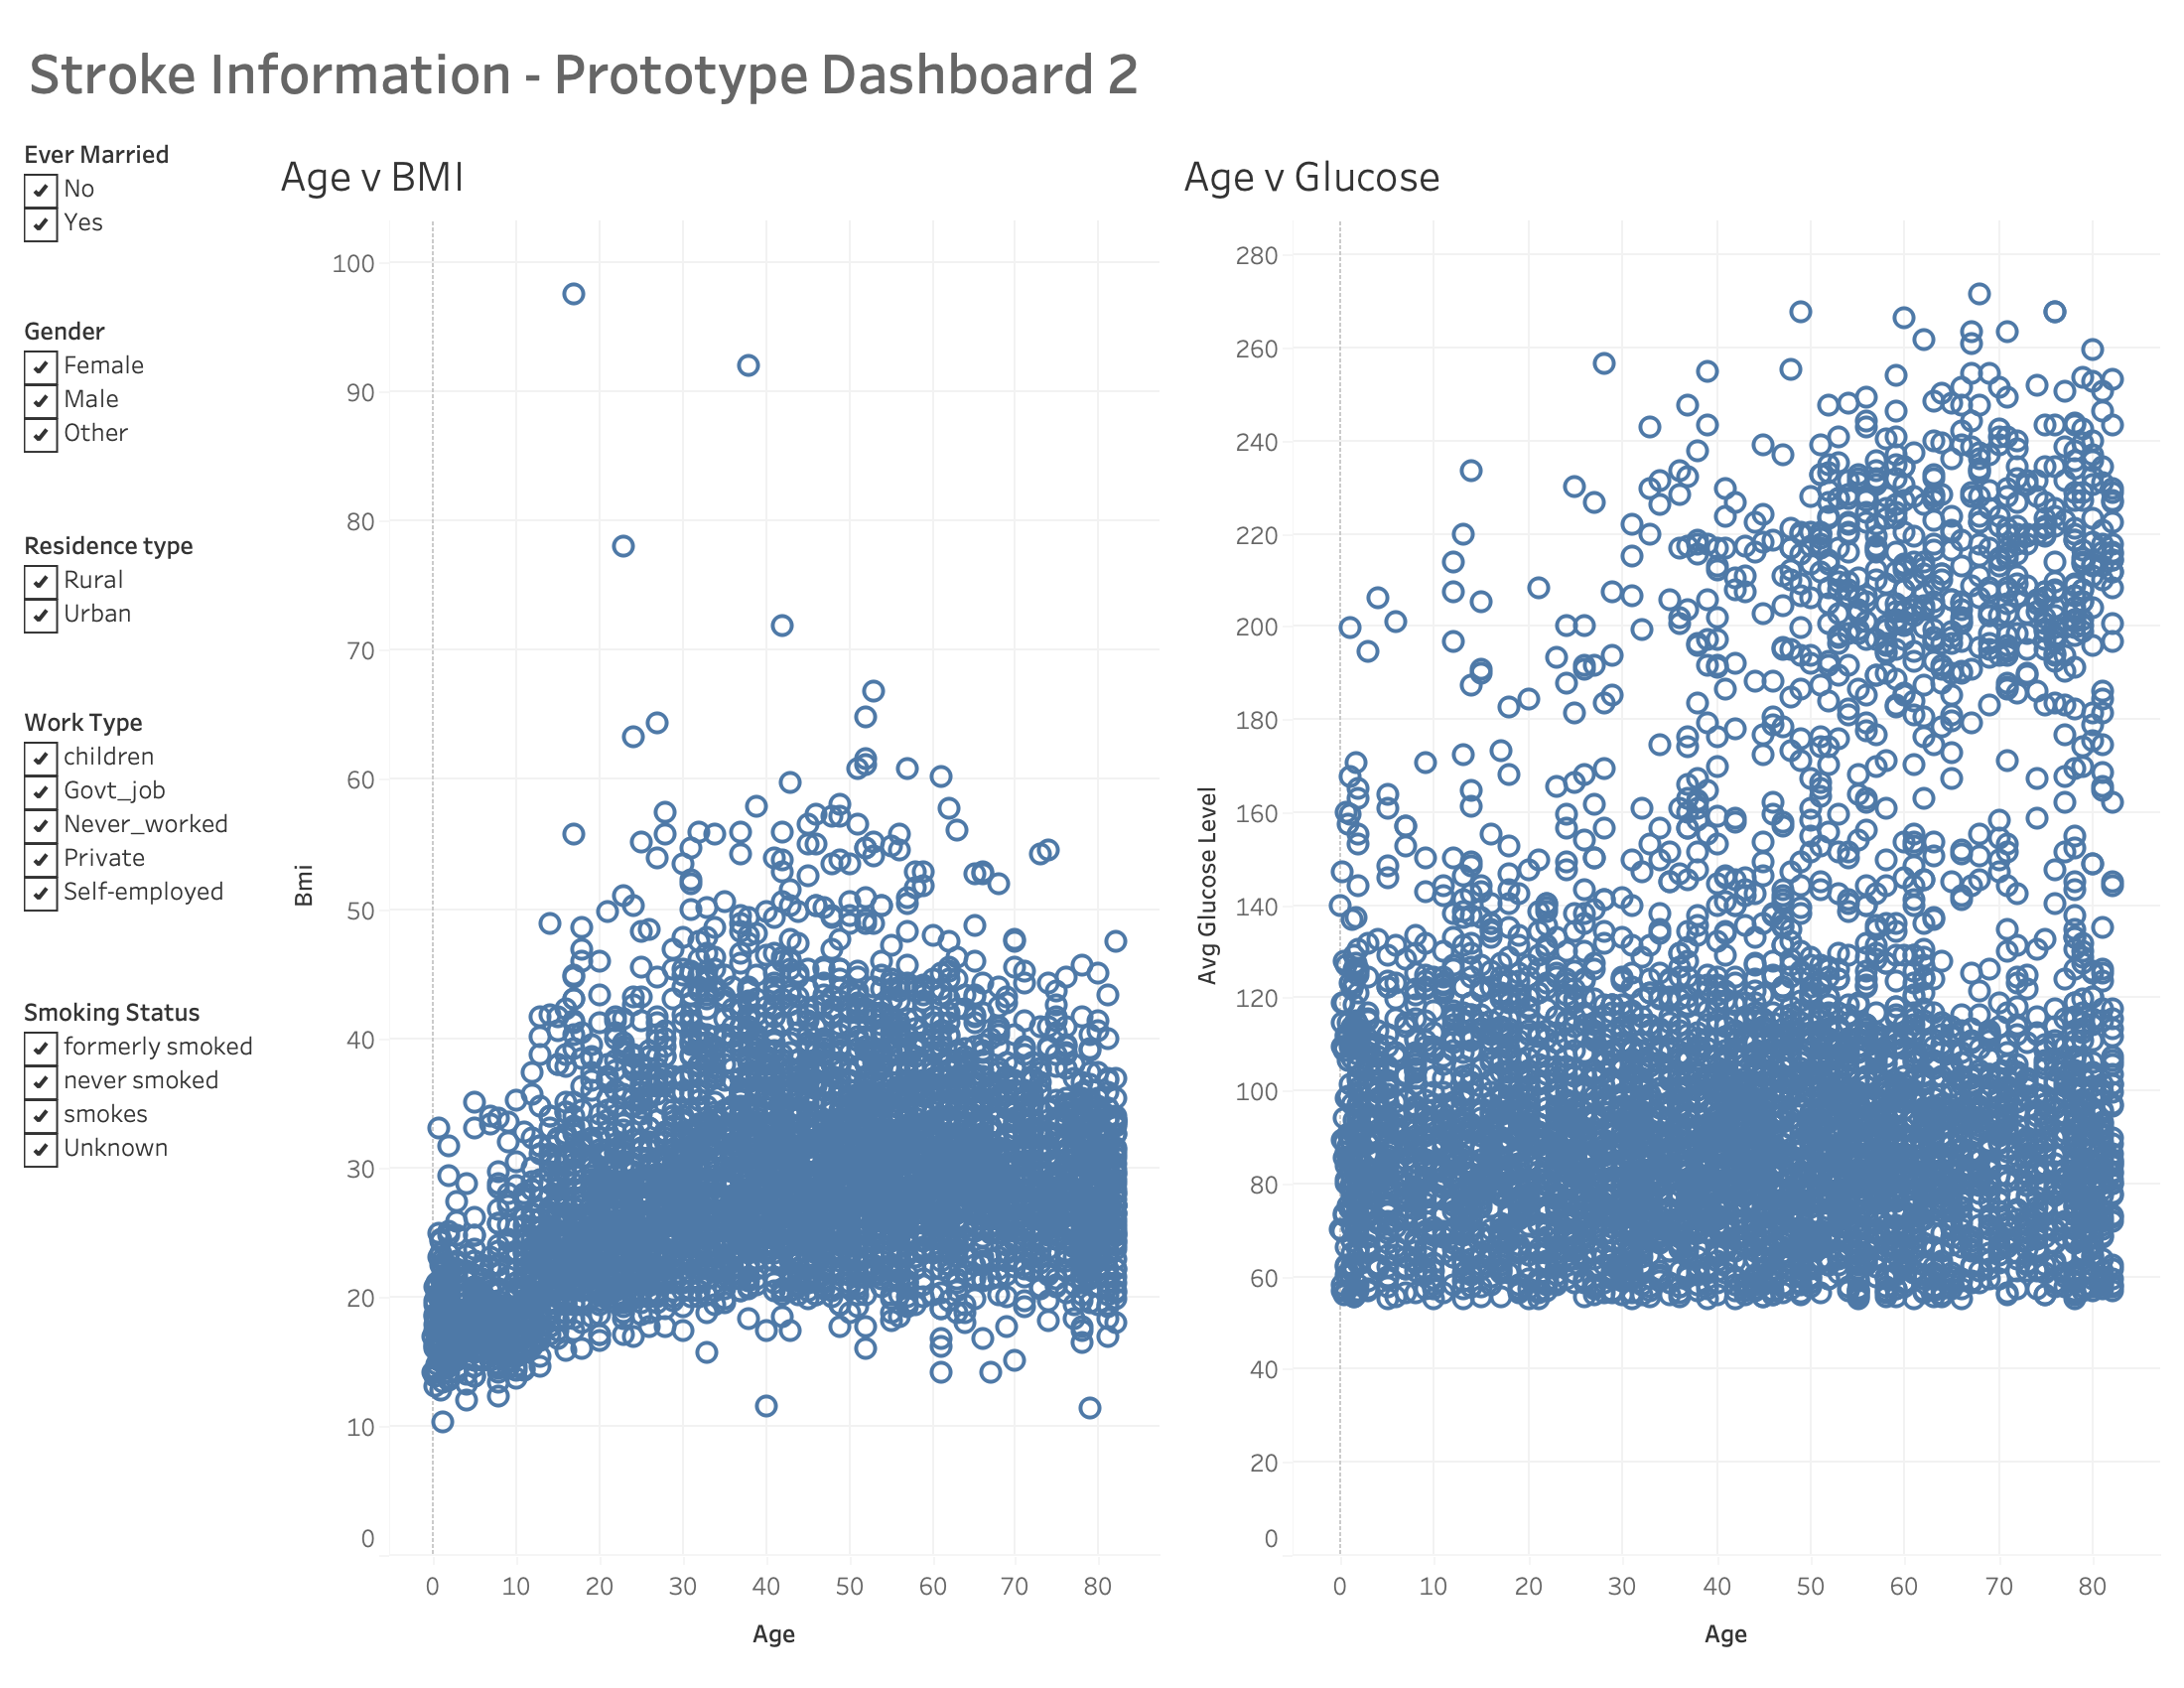

This screenshot's page, from the dashboard's own definition file:
{"tool":"tableau","page":{"name":"Dashboard 2","canvas":[1100,850],"ordinal":1},"visuals":[{"type":"worksheet","box":[0,0,1100,850]},{"type":"worksheet","param":"horz","box":[8,8,1084,834]},{"type":"worksheet","box":[8,8,1084,834]},{"type":"worksheet","box":[8,8,1084,56]},{"type":"worksheet","param":"vert","box":[8,64,125,778]},{"type":"worksheet","title":"Age v BMI","mark":"Automatic","rows":["bmi"],"cols":["age"],"param":"[federated.0xclr9f1beeksx154upsc00qus3c].[none:ever_married:nk]","box":[8,64,125,89]},{"type":"worksheet","title":"Age v BMI","mark":"Automatic","rows":["bmi"],"cols":["age"],"box":[133,64,455,778]},{"type":"worksheet","title":"Age v Glucose","mark":"Automatic","rows":["avg_glucose_level"],"cols":["age"],"box":[588,64,504,778]},{"type":"worksheet","title":"Age v BMI","mark":"Automatic","rows":["bmi"],"cols":["age"],"param":"[federated.0xclr9f1beeksx154upsc00qus3c].[none:gender:nk]","box":[8,153,125,108]},{"type":"worksheet","title":"Age v BMI","mark":"Automatic","rows":["bmi"],"cols":["age"],"param":"[federated.0xclr9f1beeksx154upsc00qus3c].[none:Residence_type:nk]","box":[8,261,125,89]},{"type":"worksheet","title":"Age v BMI","mark":"Automatic","rows":["bmi"],"cols":["age"],"param":"[federated.0xclr9f1beeksx154upsc00qus3c].[none:work_type:nk]","box":[8,350,125,146]},{"type":"worksheet","title":"Age v BMI","mark":"Automatic","rows":["bmi"],"cols":["age"],"param":"[federated.0xclr9f1beeksx154upsc00qus3c].[none:smoking_status:nk]","box":[8,496,125,127]}]}

Visuals, with their boxes in screenshot pixels (x1, y1, x2, y2), scaled from the page's 1100x850 canvas onto the 2184x1688 screenshot:
worksheet: x1=0, y1=0, x2=2183, y2=1687
worksheet: x1=16, y1=16, x2=2168, y2=1672
worksheet: x1=16, y1=16, x2=2168, y2=1672
worksheet: x1=16, y1=16, x2=2168, y2=127
worksheet: x1=16, y1=127, x2=264, y2=1672
"Age v BMI" worksheet: x1=16, y1=127, x2=264, y2=304
"Age v BMI" worksheet: x1=264, y1=127, x2=1167, y2=1672
"Age v Glucose" worksheet: x1=1167, y1=127, x2=2168, y2=1672
"Age v BMI" worksheet: x1=16, y1=304, x2=264, y2=518
"Age v BMI" worksheet: x1=16, y1=518, x2=264, y2=695
"Age v BMI" worksheet: x1=16, y1=695, x2=264, y2=985
"Age v BMI" worksheet: x1=16, y1=985, x2=264, y2=1237
